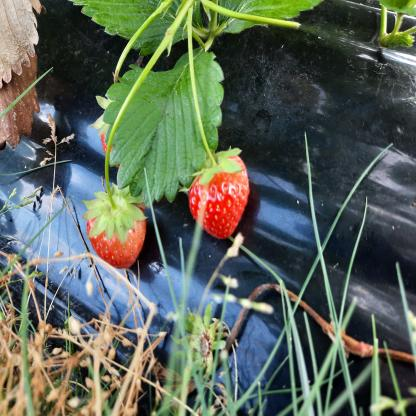ripe: (82, 192, 151, 267), (190, 150, 248, 232)
